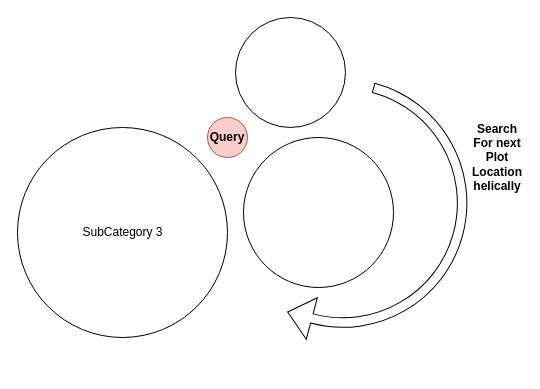
Image size: 540x389. Some labels were removed from this diagram. The centre of each missing label's shape, as x and y in pixels:
"SubCategory 1" belongs at pixel 290 72.
"SubCategory 2" belongs at pixel 318 212.
